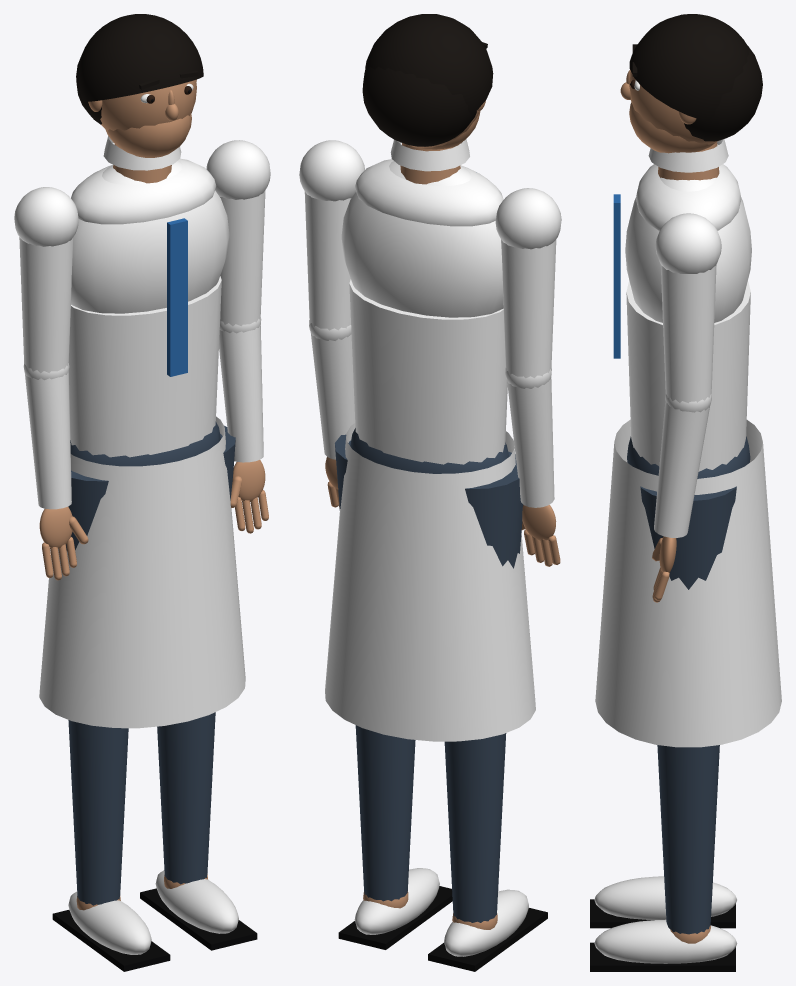
The model's file is doctor.glb.
3 views of the same model, side by side, from view 1: azimuth 30°, elevation 25°; view 2: azimuth 150°, elevation 25°; view 3: azimuth 270°, elevation 25° (orthographic). The views are drawn at different scales.
Visible parts, largest first — view 1: doctor, arm (×2), leg (×2), object 1, object 2, object 23, object 3, object 5, object 8, object 9, object 7, object 6; view 2: doctor, leg (×2), arm (×2), object 1, object 2, object 23, object 24, object 3, object 7, object 6; view 3: doctor, leg (×2), arm, object 1, object 23, object 2, object 3, object 24, object 8, object 7, object 9, object 5 (+1 smaller).
Part boxes in pixels (<box>): doctor: <box>39,416,245,728</box>; arm (×2): <box>14,140,270,580</box>; leg (×2): <box>52,425,257,971</box>; object 1: <box>68,276,221,457</box>; object 2: <box>71,160,229,313</box>; object 23: <box>78,14,203,101</box>; object 3: <box>71,158,216,224</box>; object 5: <box>167,218,187,376</box>; object 8: <box>100,80,196,131</box>; object 9: <box>105,113,191,157</box>; object 7: <box>103,136,181,170</box>; object 6: <box>113,144,171,183</box>; doctor: <box>325,423,535,741</box>; leg (×2): <box>335,434,547,971</box>; arm (×2): <box>299,140,561,566</box>; object 1: <box>349,279,507,464</box>; object 2: <box>341,161,503,317</box>; object 23: <box>365,14,493,114</box>; object 24: <box>362,67,476,146</box>; object 3: <box>355,159,503,226</box>; object 7: <box>390,139,469,171</box>; object 6: <box>400,143,460,184</box>; doctor: <box>595,419,781,747</box>; leg (×2): <box>590,486,737,971</box>; arm: <box>652,213,721,602</box>; object 1: <box>626,281,750,471</box>; object 23: <box>629,14,749,121</box>; object 2: <box>625,177,751,322</box>; object 3: <box>636,164,741,230</box>; object 24: <box>684,45,762,141</box>; object 8: <box>629,71,718,144</box>; object 7: <box>648,139,728,172</box>; object 9: <box>629,102,715,153</box>; object 5: <box>613,194,620,358</box>.
Size of the model in its own units: 0.9947 by 3.46 by 0.6522.
